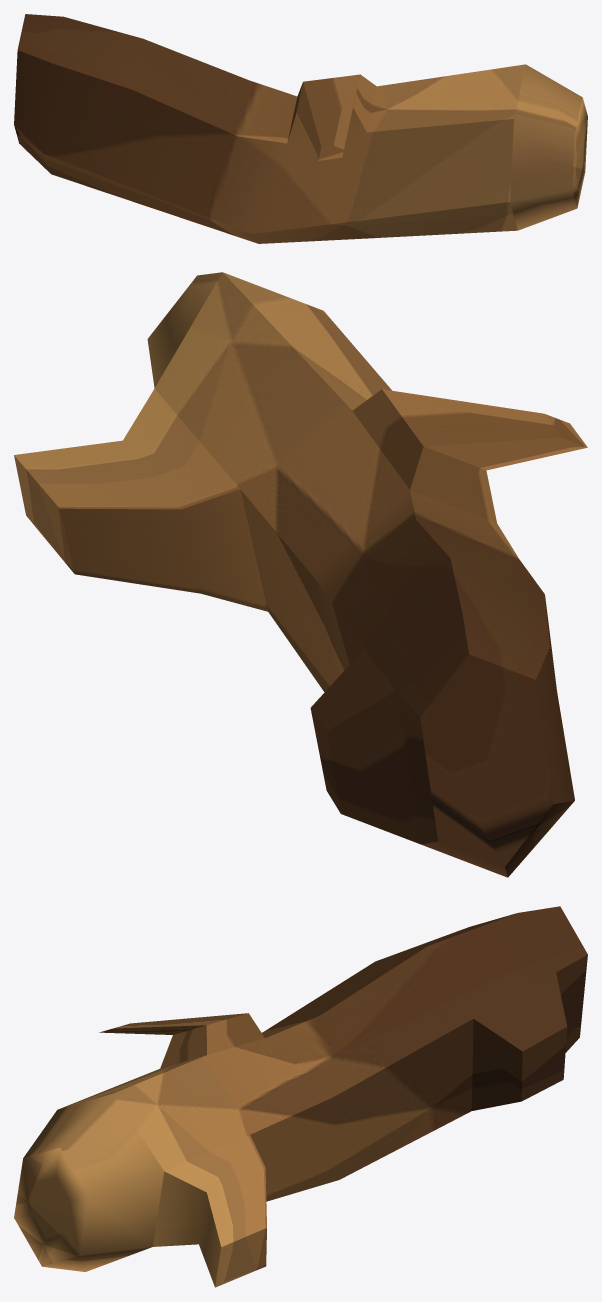
File: wood1.fbx
The picture shows the model from 3 angles, top to bottom: view 1: azimuth 30°, elevation 25°; view 2: azimuth 150°, elevation 25°; view 3: azimuth 270°, elevation 25°; orthographic projection. The views are drawn at different scales.
Visible parts, largest first — view 1: wood1; view 2: wood1; view 3: wood1.
Part boxes in pixels (x1=…): wood1: x1=14, y1=14, x2=587, y2=243; wood1: x1=14, y1=272, x2=587, y2=877; wood1: x1=14, y1=906, x2=587, y2=1287.
Bounding box in the file's own units: 0.9907 × 0.4065 × 0.9435.
